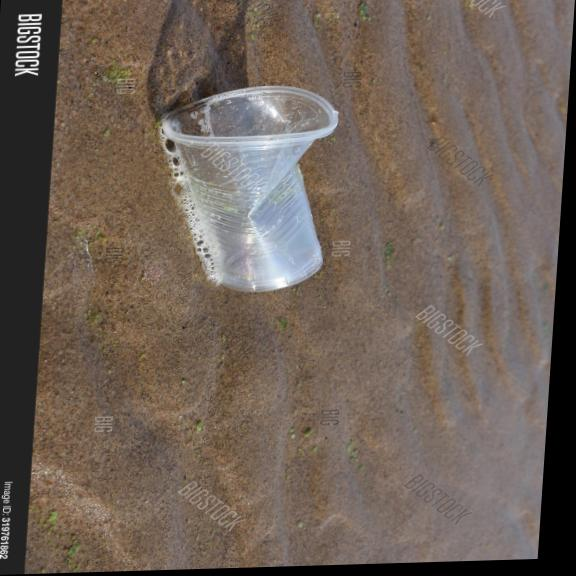Plastik: (162, 86, 337, 291)
